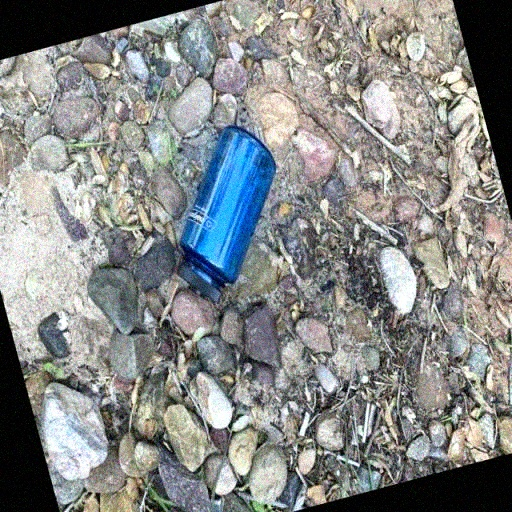bottle: (126, 117, 306, 316)
